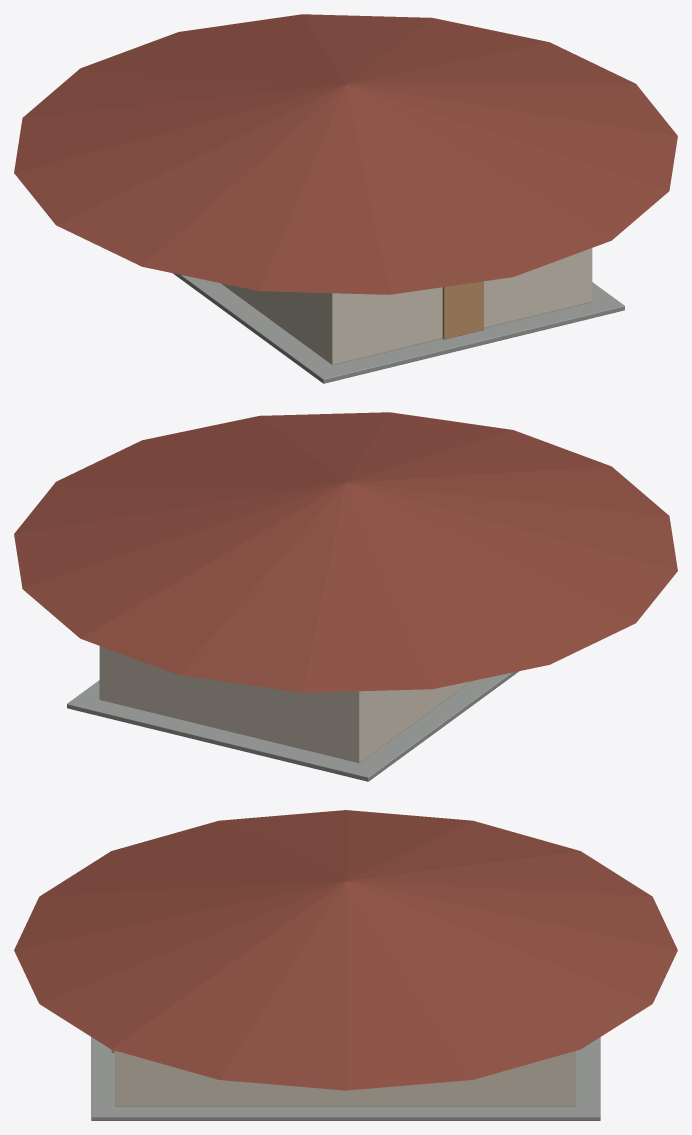
Rendered from Building_Residential_006.glb.
3 views of the same model, one above another, from view 1: azimuth 30°, elevation 25°; view 2: azimuth 150°, elevation 25°; view 3: azimuth 270°, elevation 25° (orthographic).
Visible parts, largest first — view 1: Building_Residential_006; view 2: Building_Residential_006; view 3: Building_Residential_006.
Part boxes in pixels (x1,y1,x2,y2): Building_Residential_006: (14,14,677,383); Building_Residential_006: (14,412,677,781); Building_Residential_006: (14,810,677,1120).
Bounding box in the file's own units: 20.88 × 5.8 × 20.88.
